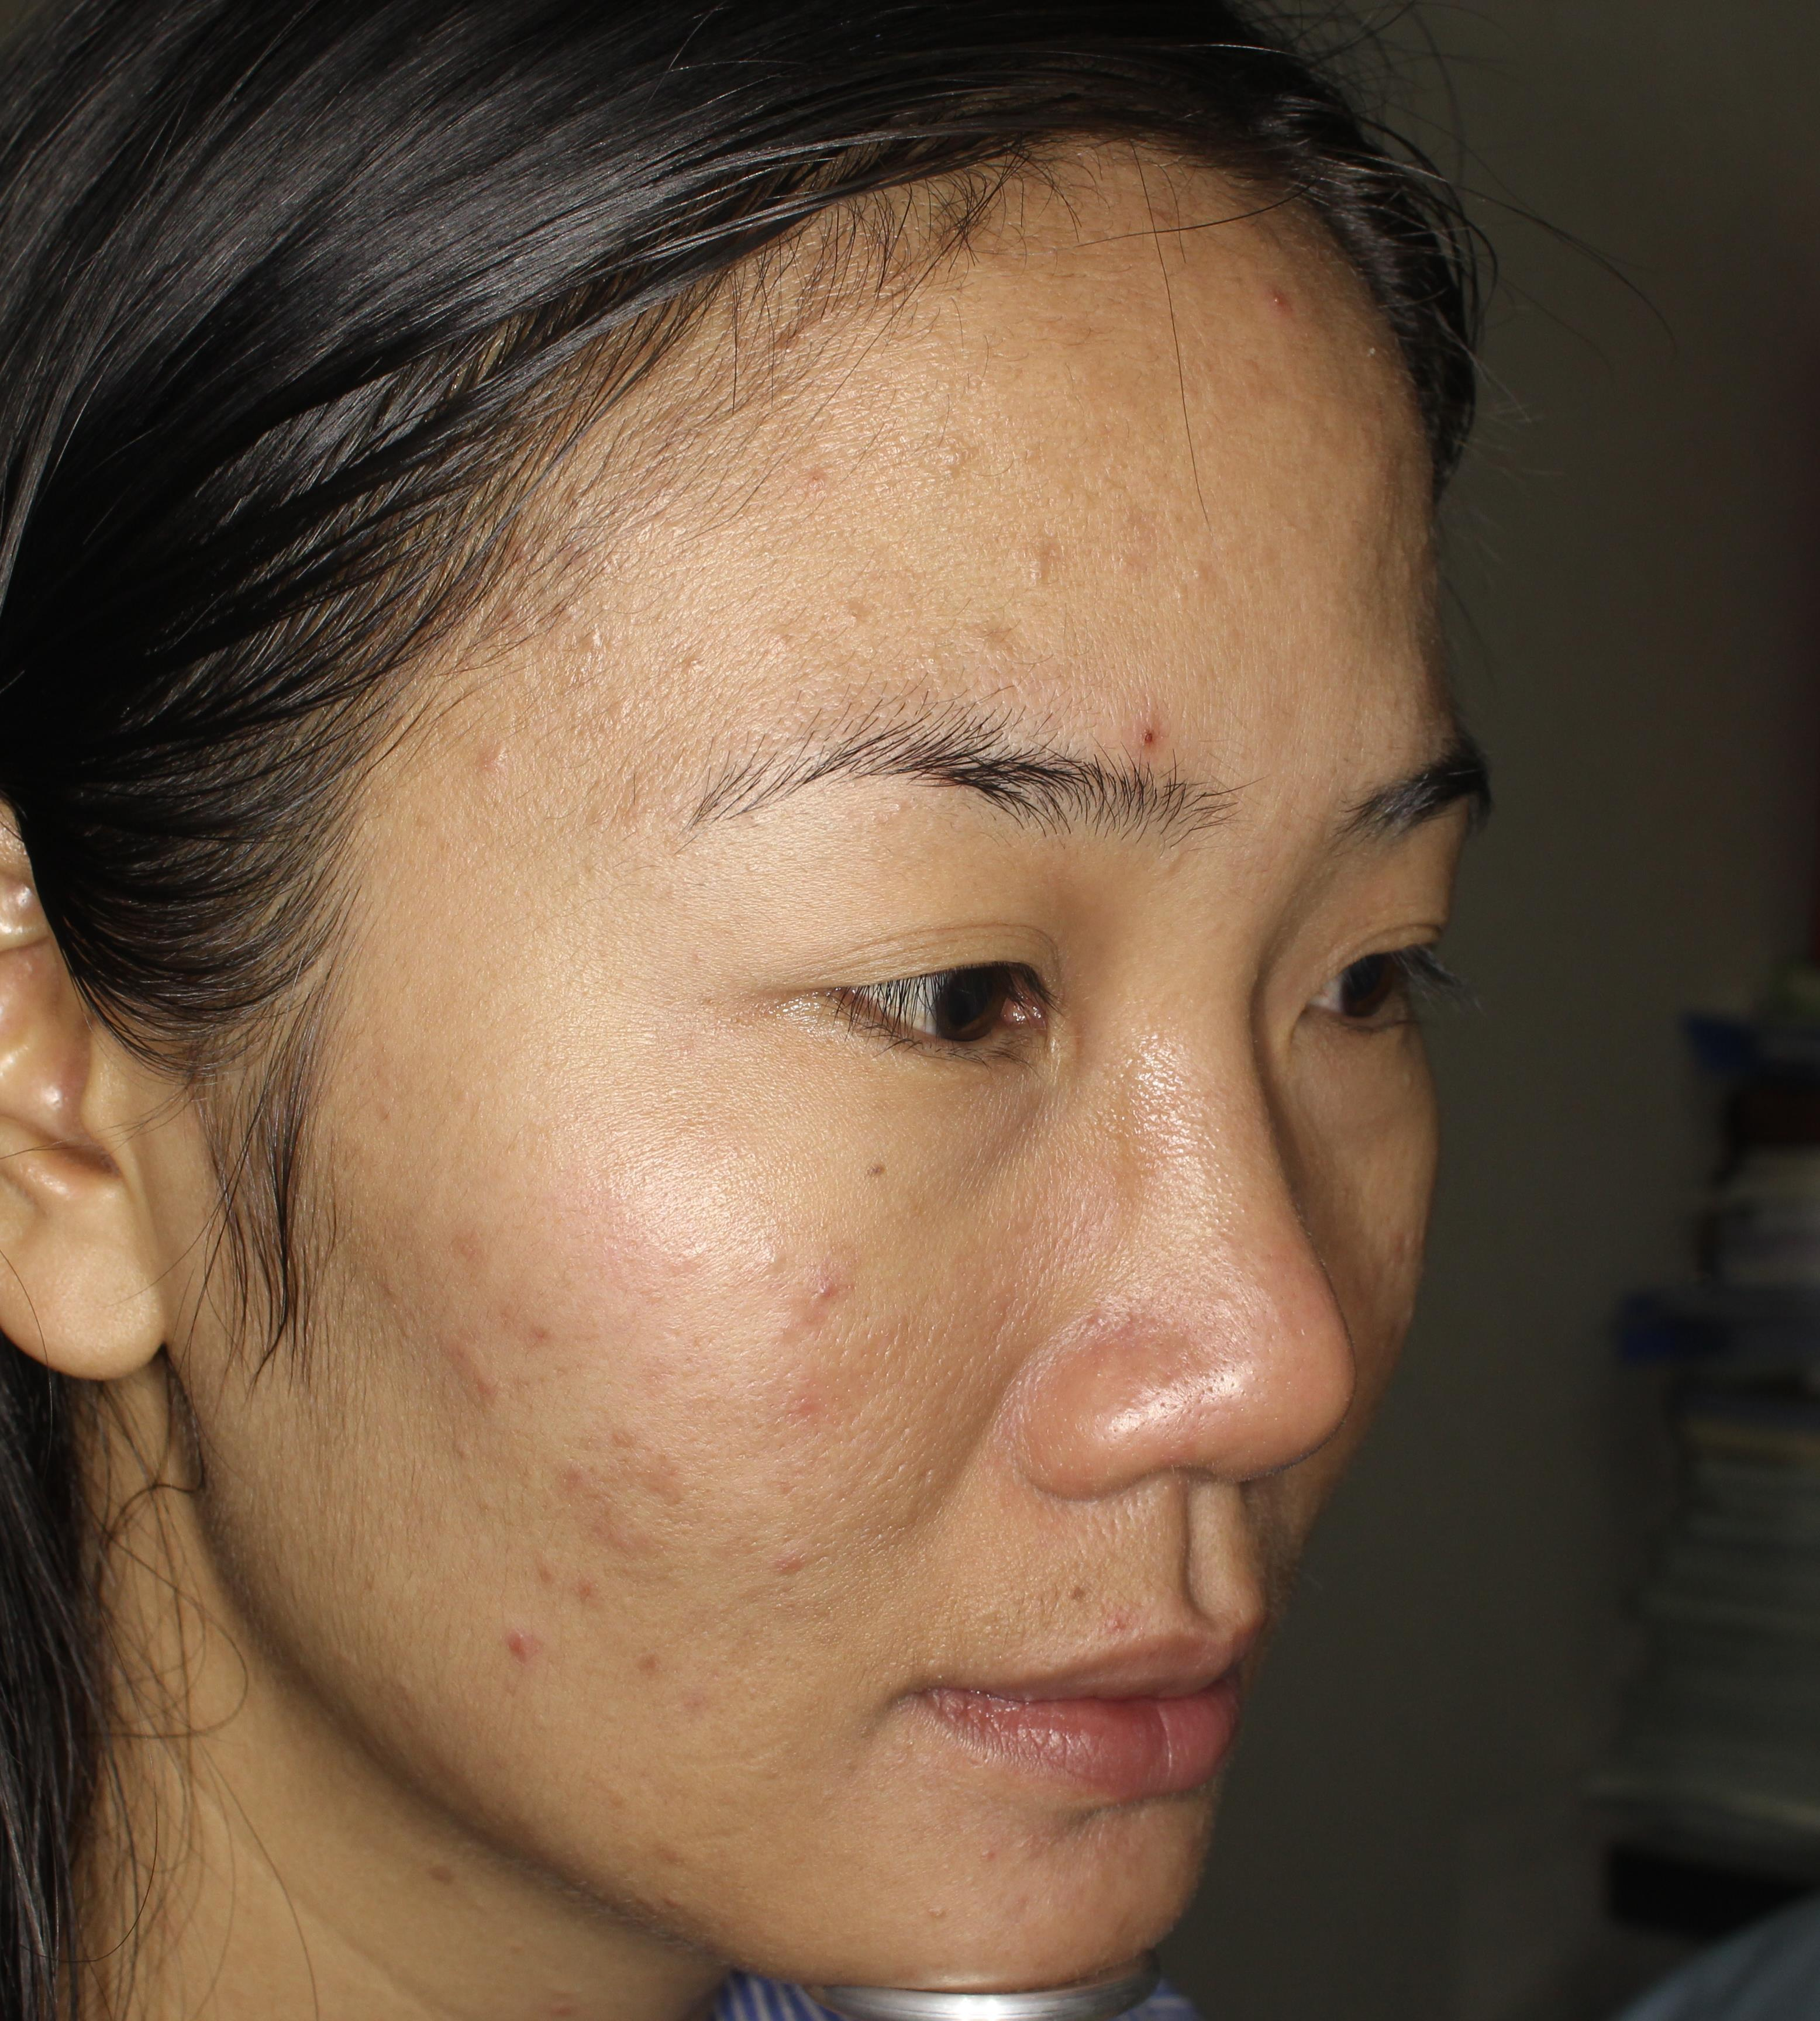fore: (592, 1419, 699, 1531), (499, 1536, 624, 1626), (768, 1248, 875, 1347), (444, 1196, 516, 1298), (422, 1315, 522, 1384), (759, 1356, 849, 1428), (481, 1612, 574, 1675), (531, 1424, 580, 1508)
